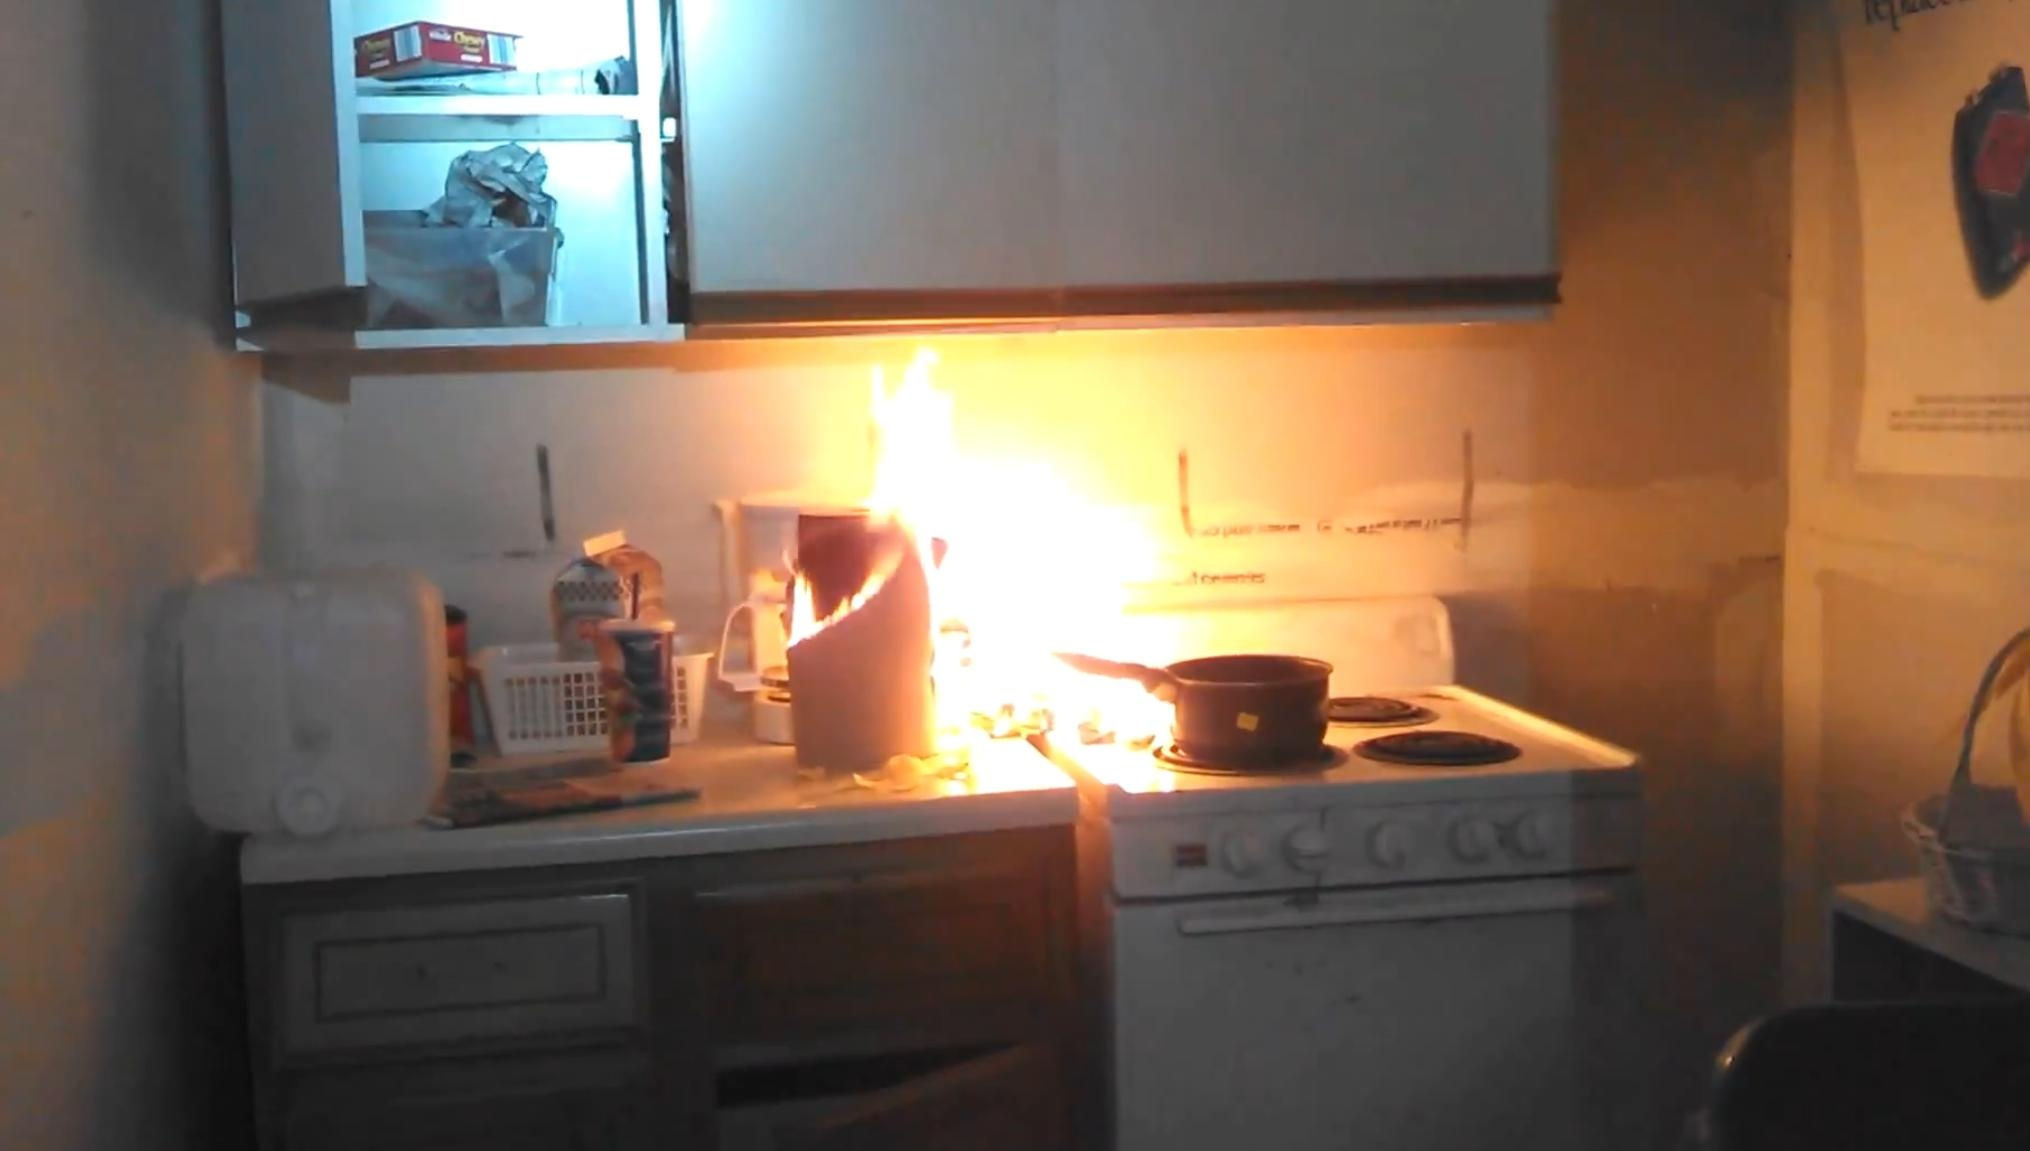fire: (845, 337, 1181, 779)
